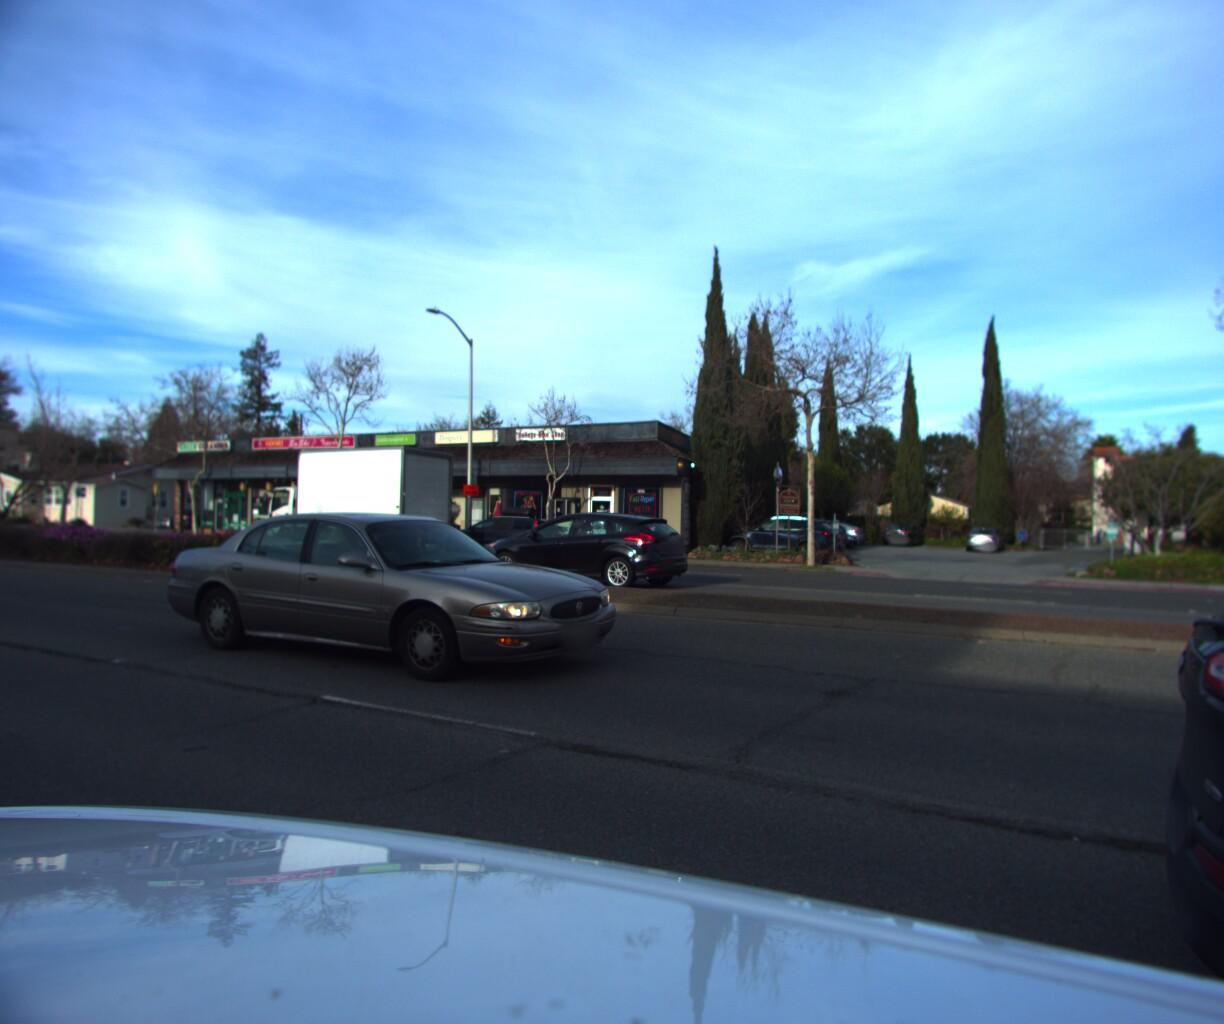car: (152, 502, 642, 700), (461, 507, 693, 593), (427, 506, 583, 565), (710, 513, 843, 561), (160, 510, 238, 540)
truck: (251, 446, 457, 558)
